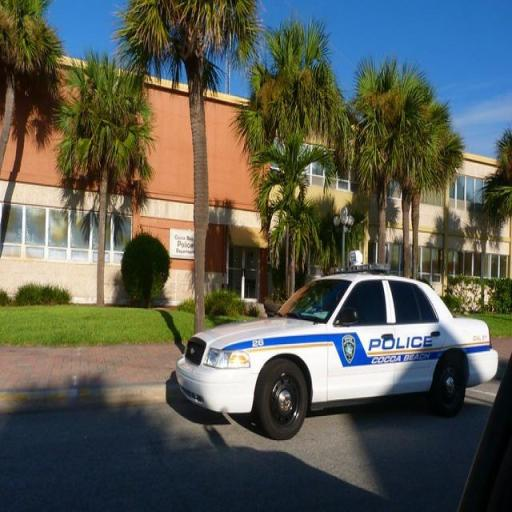Ambulance: (169, 250, 501, 440)
